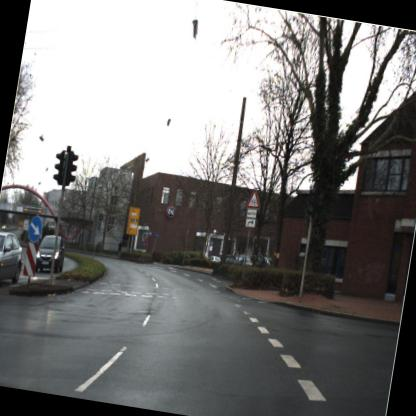danger: (244, 188, 262, 209)
mandatory: (26, 212, 46, 243)
